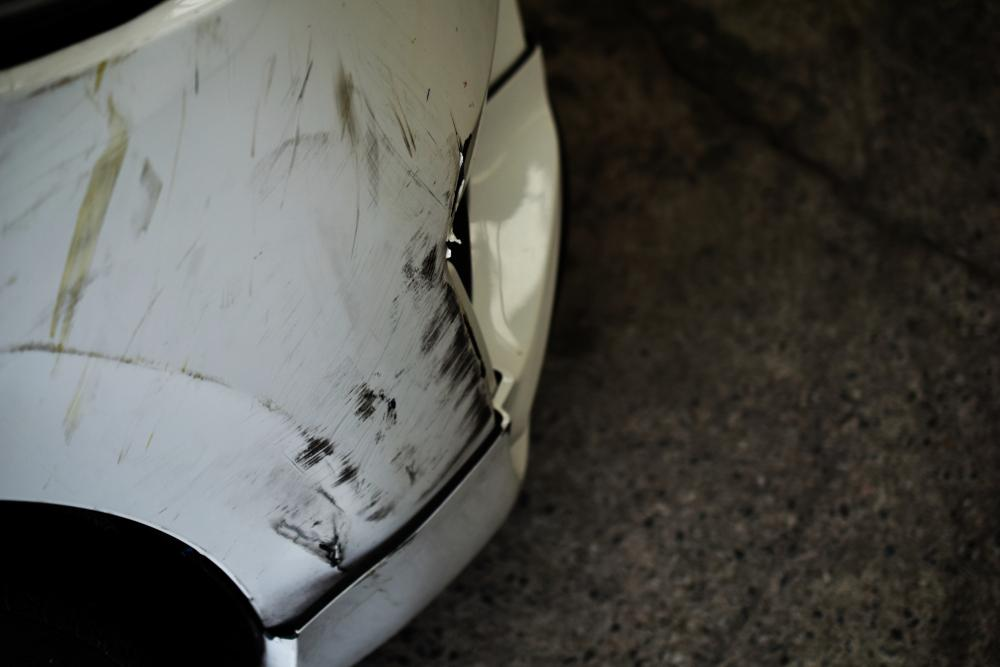scratch: (0, 17, 504, 575)
